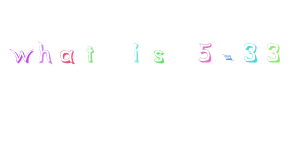-: (221, 52, 236, 65)
3: (242, 41, 259, 64), (265, 41, 281, 64)
5: (197, 40, 214, 64)
a: (58, 47, 76, 65)
h: (37, 39, 54, 65)
i: (131, 42, 141, 64)
s: (152, 48, 165, 64)
t: (85, 45, 95, 64)
w: (8, 46, 34, 64)
